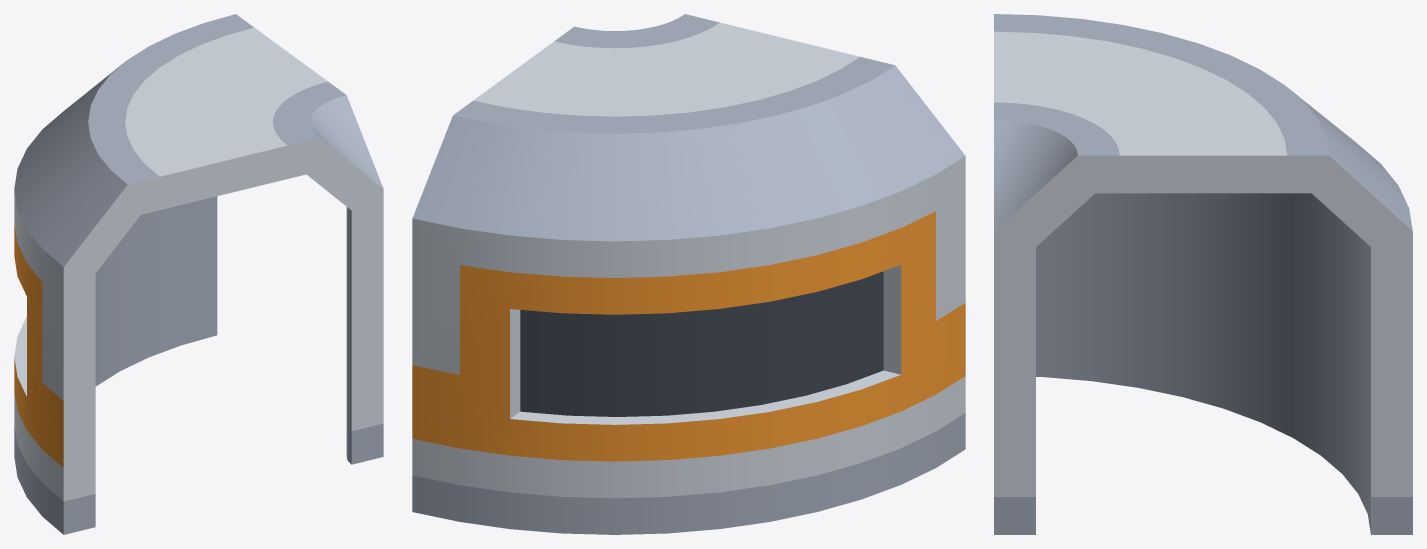
The model's file is corridor_cornerRoundWindow.glb.
3 renders of one model, left to right at view 1: azimuth 30°, elevation 25°; view 2: azimuth 150°, elevation 25°; view 3: azimuth 270°, elevation 25°, orthographic. The views are drawn at different scales.
Parts seen in each view (by area): view 1: corridor_cornerRoundWindow; view 2: corridor_cornerRoundWindow; view 3: corridor_cornerRoundWindow.
Boxes of the visible parts, left/top/right/bottom form: corridor_cornerRoundWindow: left=14, top=14, right=383, bottom=534; corridor_cornerRoundWindow: left=412, top=14, right=965, bottom=534; corridor_cornerRoundWindow: left=994, top=14, right=1412, bottom=534.
Size of the model in its own units: 1 by 1 by 1.
